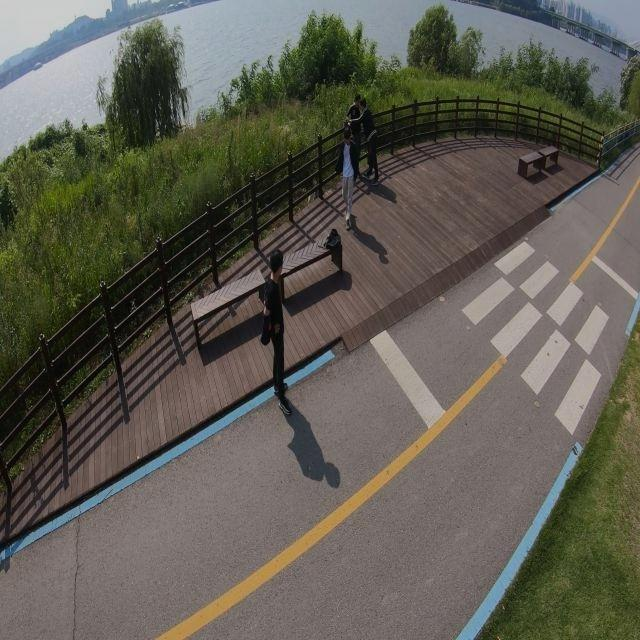fight: (345, 96, 380, 183)
non-fight: (258, 250, 291, 406), (340, 119, 364, 227)
